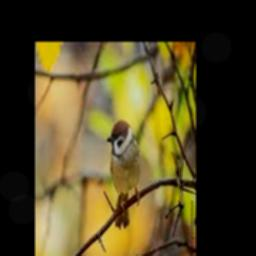Sparrow: (107, 122, 140, 227)
